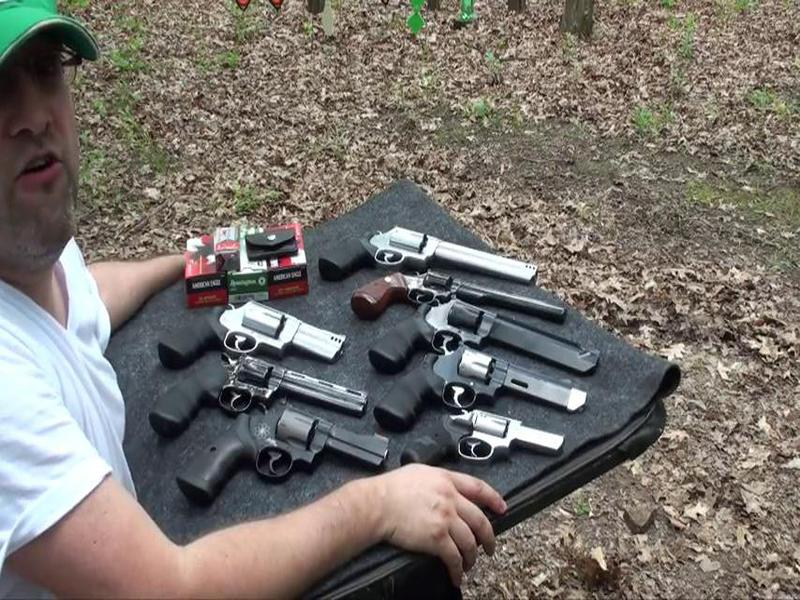Revolver: (350, 339, 606, 433)
